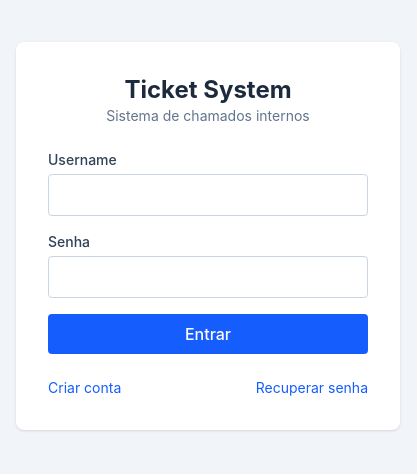
Test: LoginView › shows an error and stays on the page when the credentials are rejected
Type "ana" into the field labelled "Username" at {"x": 208, "y": 195}, box [48, 174, 368, 216]
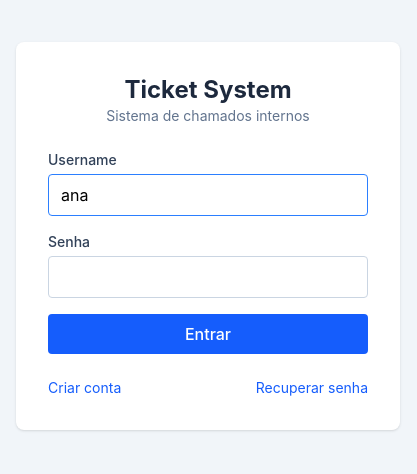
Type "wrong" into the password field labelled "Senha" at {"x": 208, "y": 277}, box [48, 256, 368, 298]
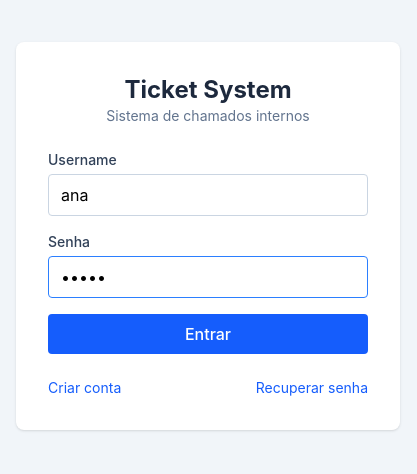
Click the button "Entrar" at {"x": 208, "y": 334}, box [48, 314, 368, 354]
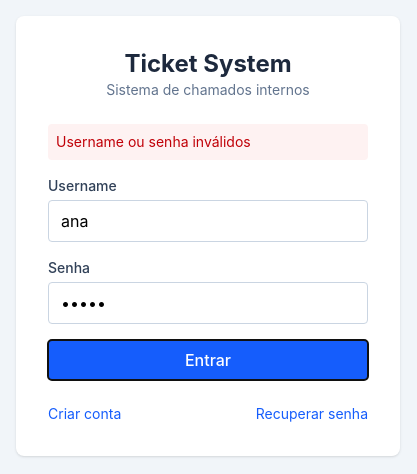
Expected: the message reads "Username ou senha inválidos", [56, 133, 251, 150]
